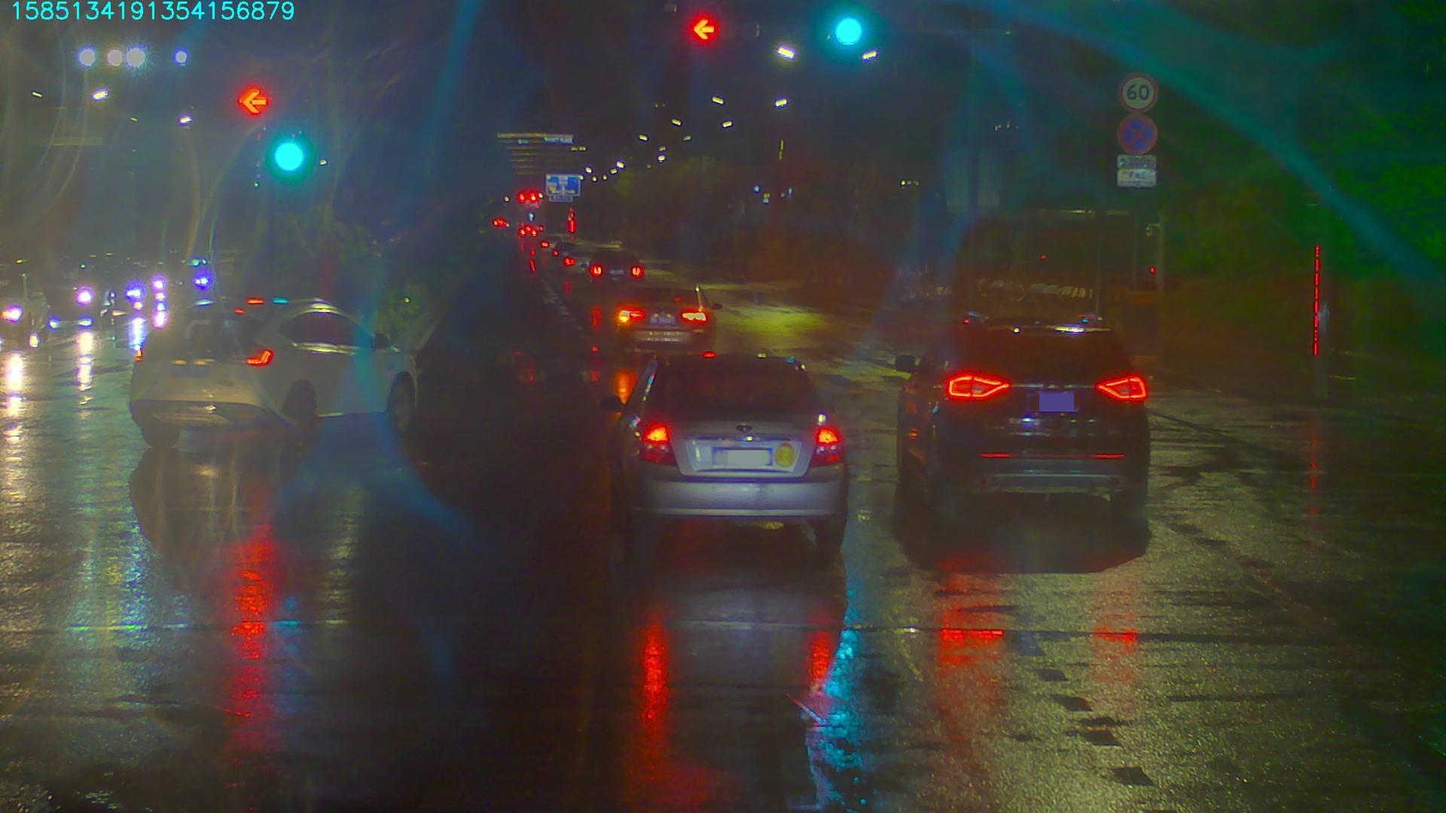green: (825, 16, 873, 47)
red: (687, 17, 722, 45)
